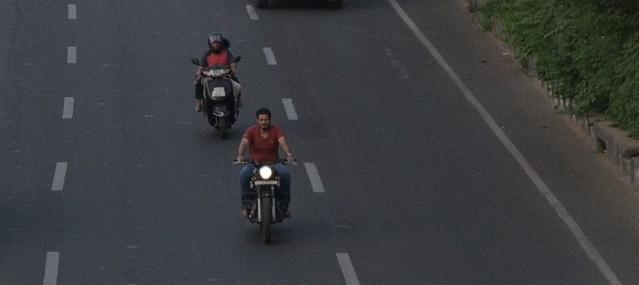With Helmet: (208, 32, 224, 54)
Without Helmet: (253, 110, 275, 132)
